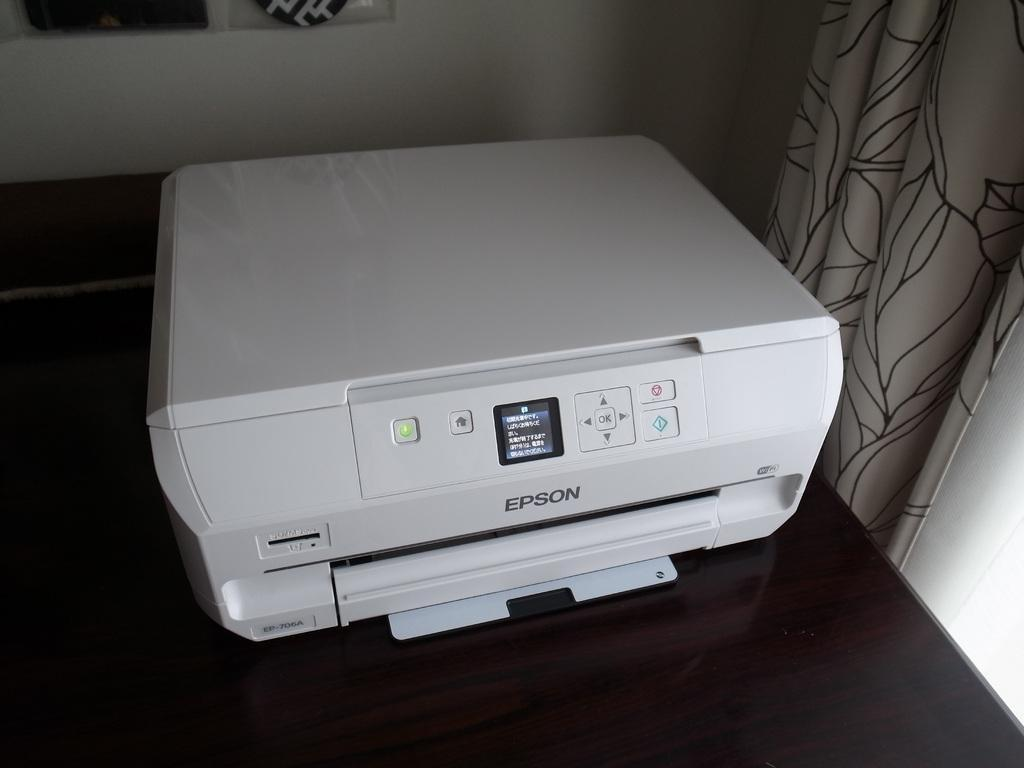Printer: (145, 132, 843, 642)
